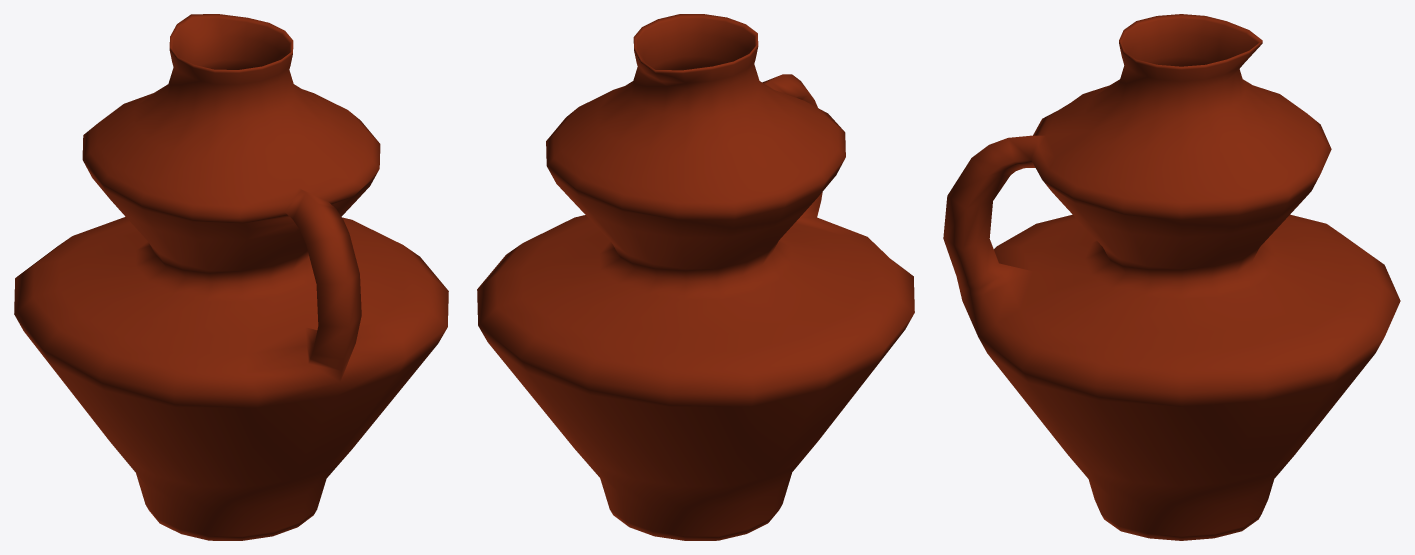
File: Pitcher.fbx
3 renders of one model, left to right at view 1: azimuth 30°, elevation 25°; view 2: azimuth 150°, elevation 25°; view 3: azimuth 270°, elevation 25°, orthographic.
Visible parts, largest first — view 1: Pitcher; view 2: Pitcher; view 3: Pitcher.
Part boxes in pixels (x1=…): Pitcher: x1=14, y1=14, x2=448, y2=540; Pitcher: x1=477, y1=14, x2=914, y2=540; Pitcher: x1=943, y1=14, x2=1400, y2=540.
Size of the model in its own units: 29.04 by 34.16 by 30.29.
